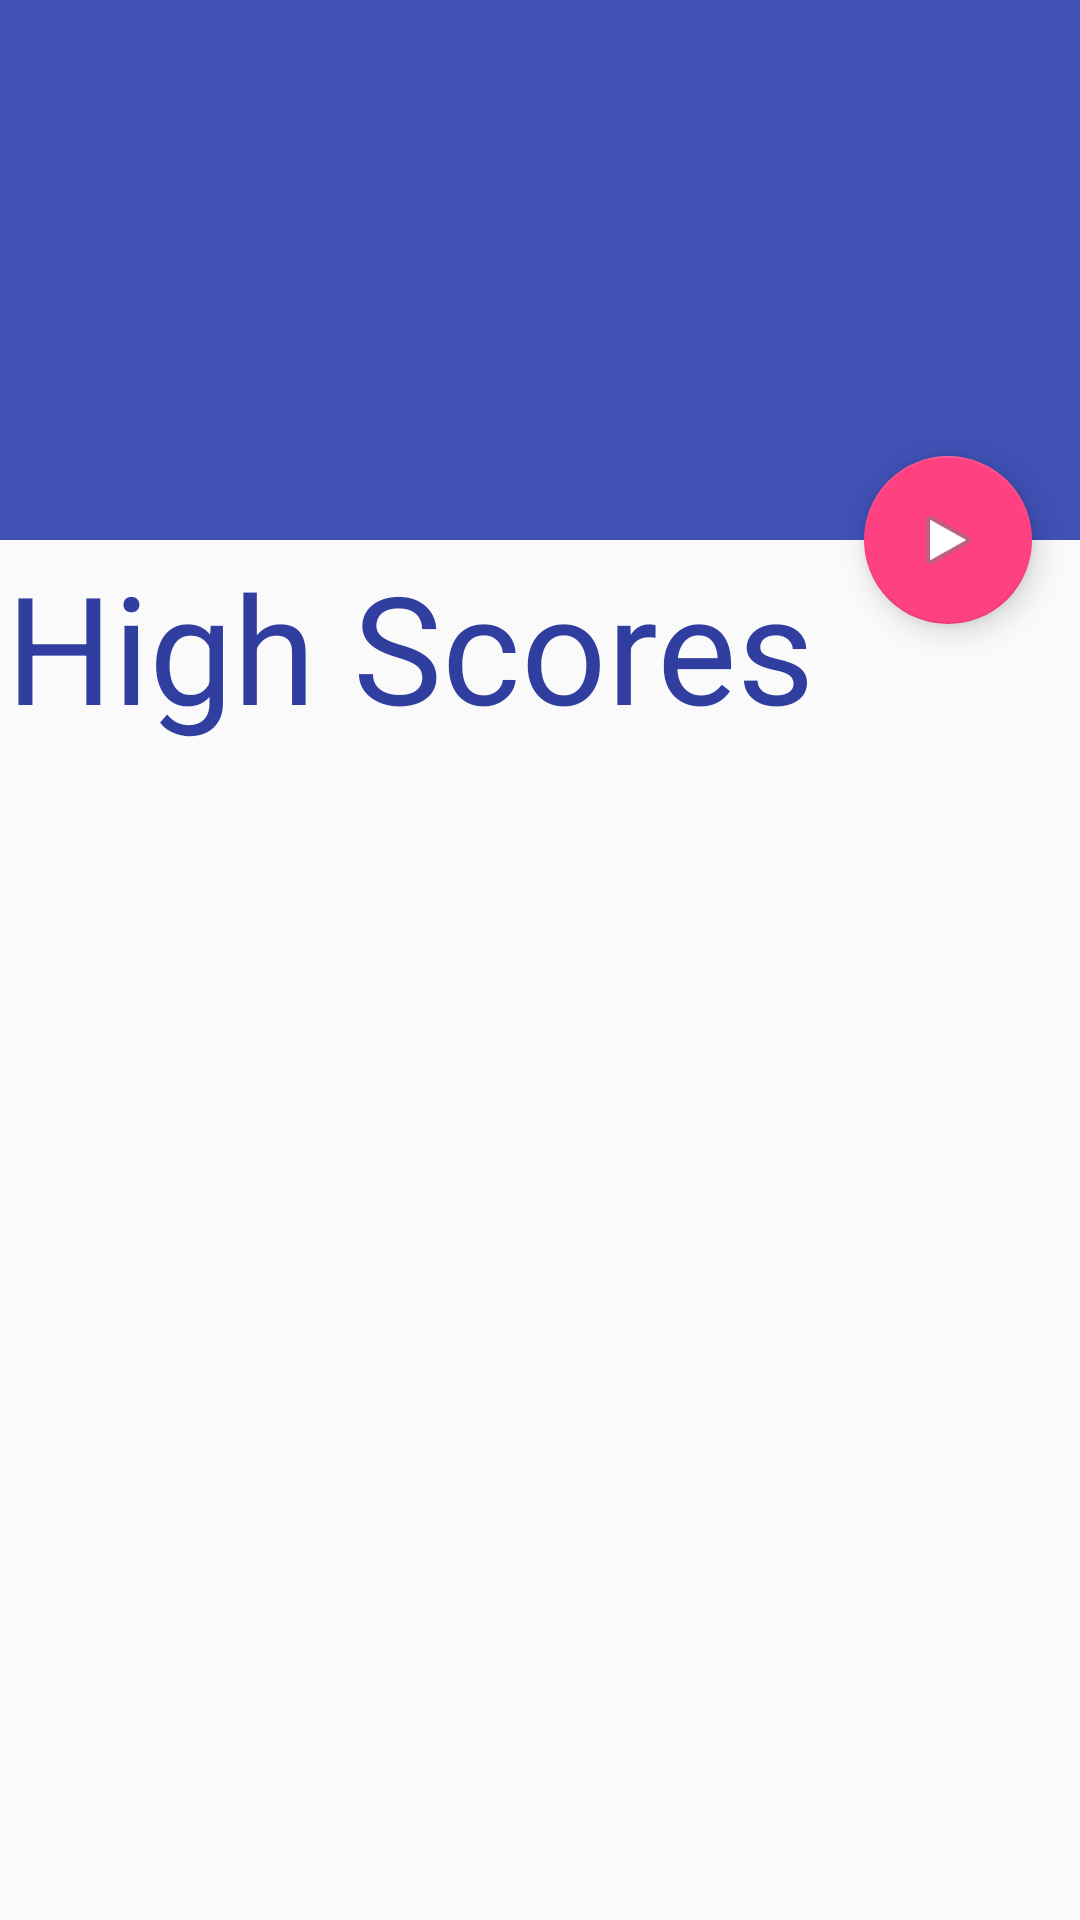

Where to tap for icons on this 1080×1920 app screen, as [x,y]:
play: [948,540]
